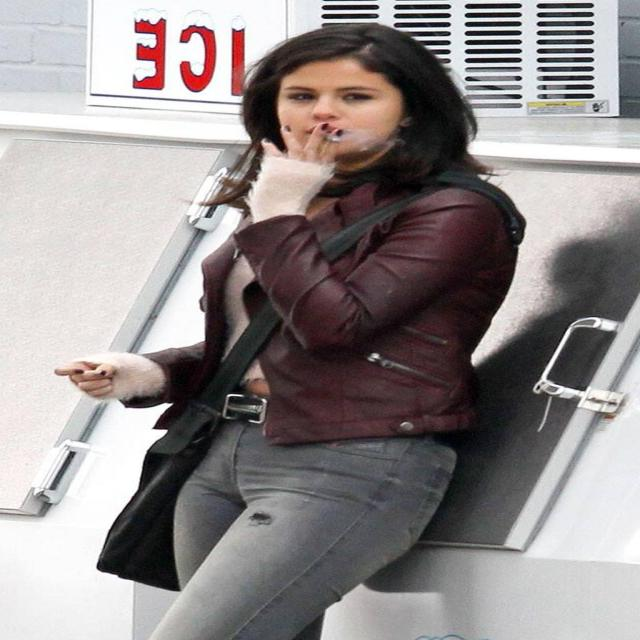smoking: (238, 31, 444, 172)
